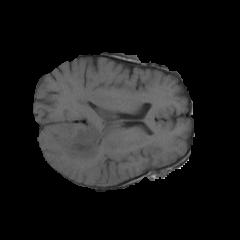glioma: (43, 117, 124, 168)
